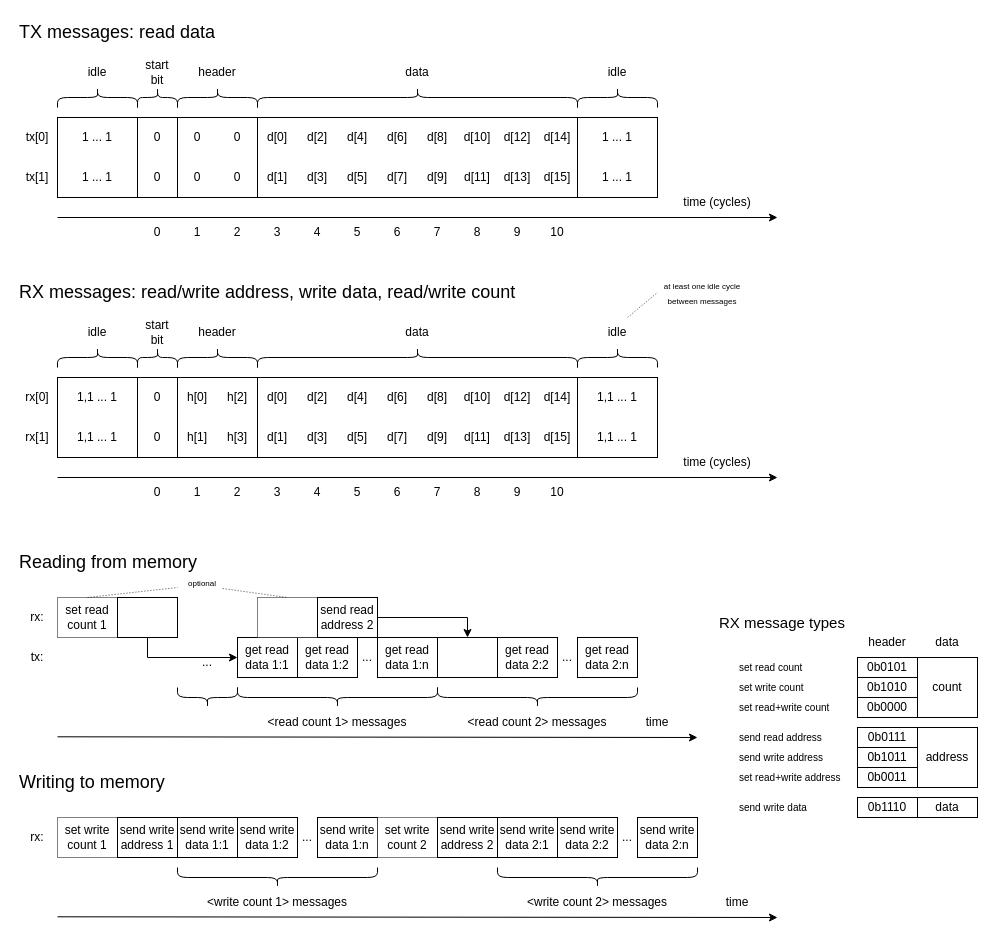
The diagram is 995 pixels wide and 943 high, and some of its shapes have lost their labels. Here are the shapes that lost their labels. From the top down, the box of each, then its label:
(116, 596, 178, 638): send read address 1
(256, 596, 318, 638): set read count 2
(436, 636, 498, 678): get read data 2:1
(176, 686, 238, 708): read delay
